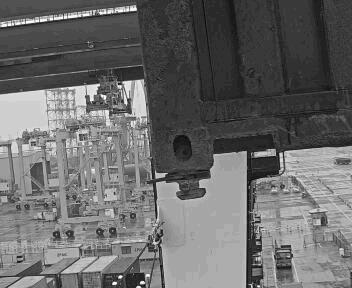twist_lock_1: (174, 170, 237, 204)
